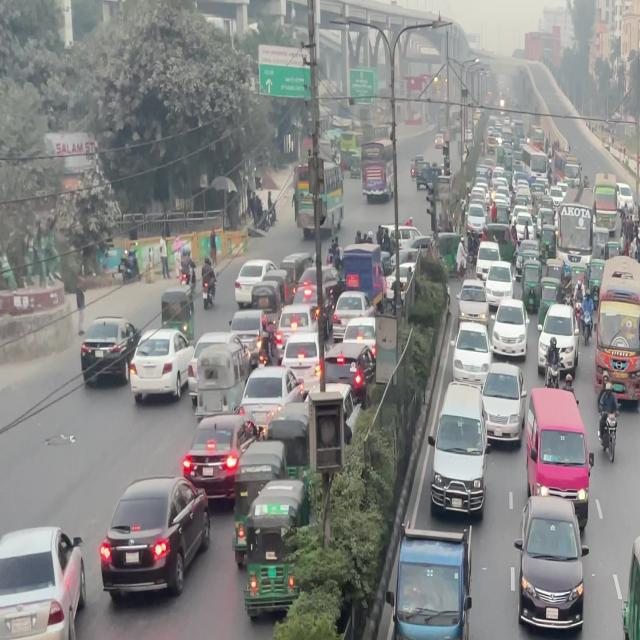bus: (592, 268, 640, 399)
car: (100, 474, 216, 596), (512, 492, 590, 636), (2, 527, 90, 640), (184, 413, 270, 502), (526, 386, 593, 499), (429, 385, 486, 512), (129, 332, 199, 406), (481, 368, 530, 446), (79, 318, 135, 385), (233, 258, 290, 310)
rickshaw: (239, 479, 312, 626), (623, 533, 640, 640)
van: (393, 527, 476, 640)
